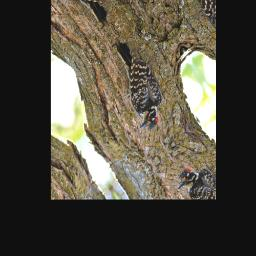Woodpecker: (97, 33, 173, 138)
